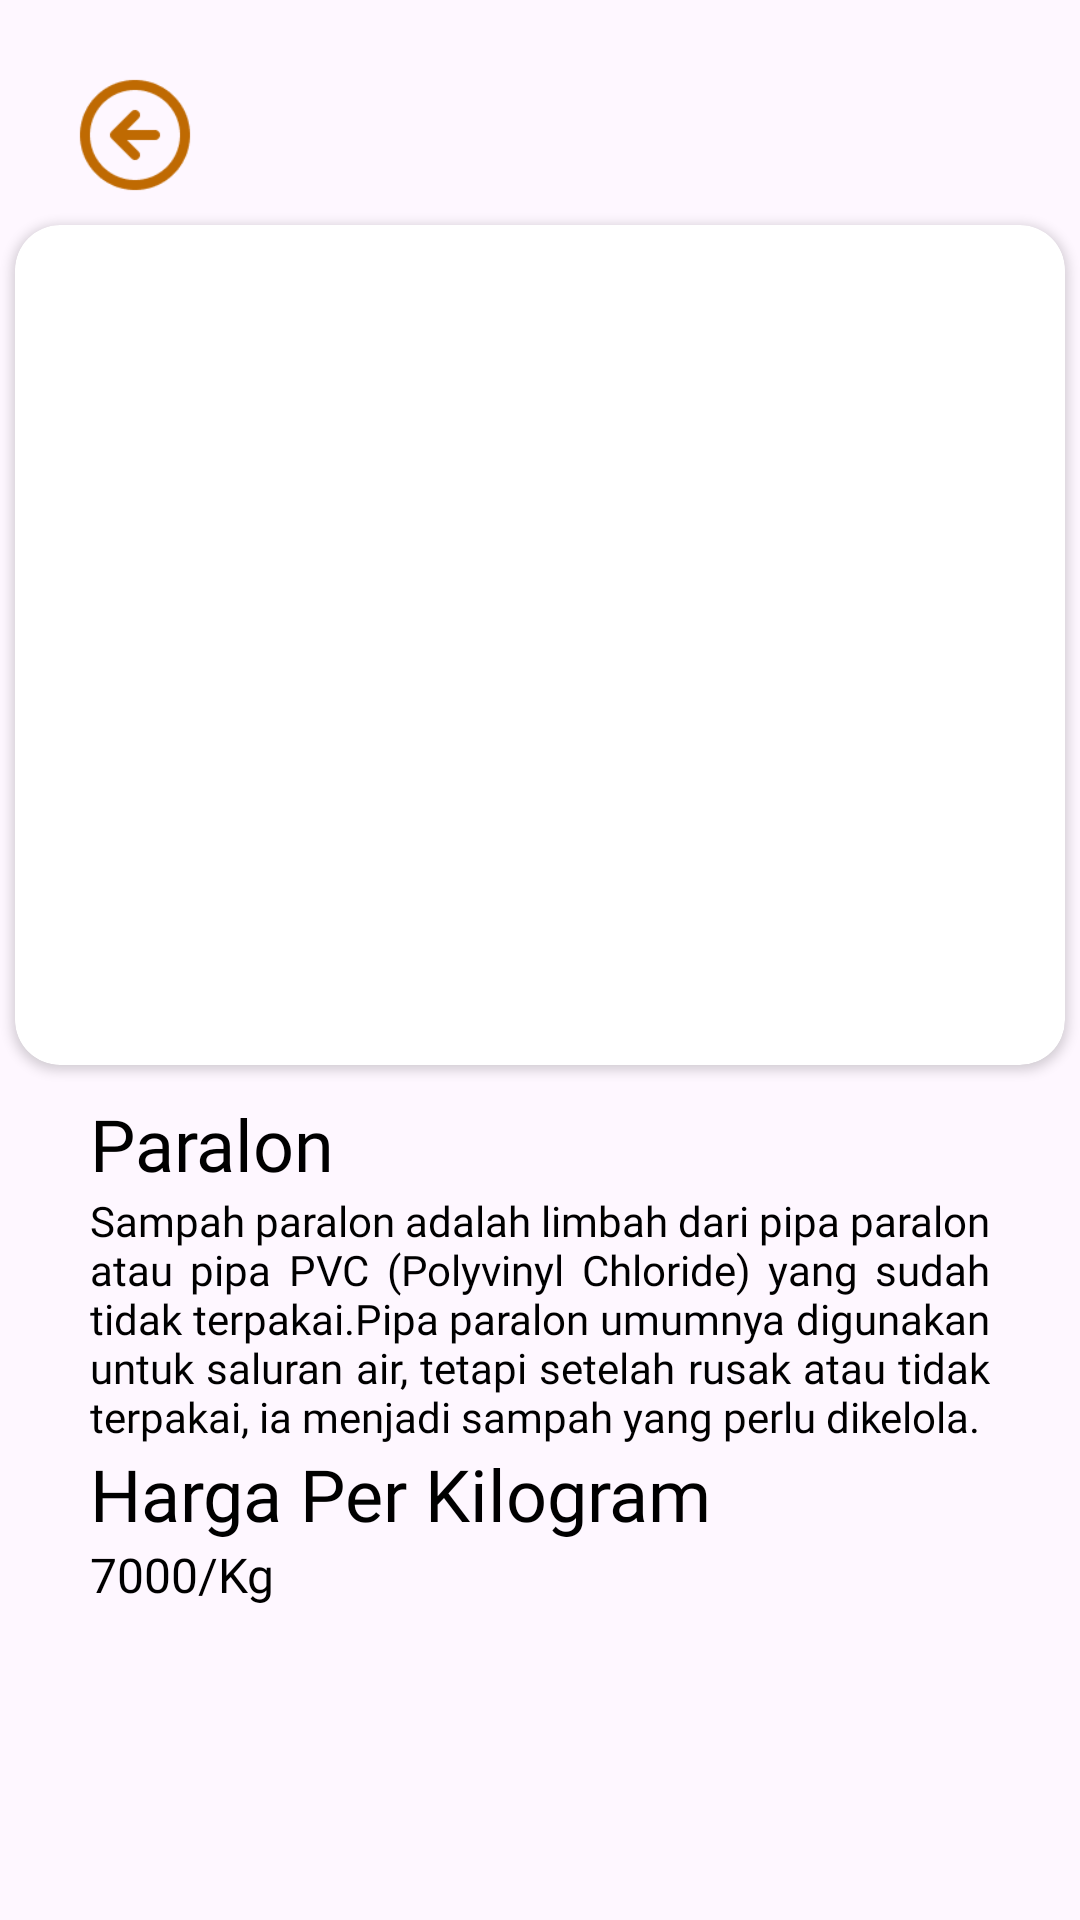

Screen size 1080w x 1920h. Icon name, then its center in pixels as (x,y):
back: (135,135)
